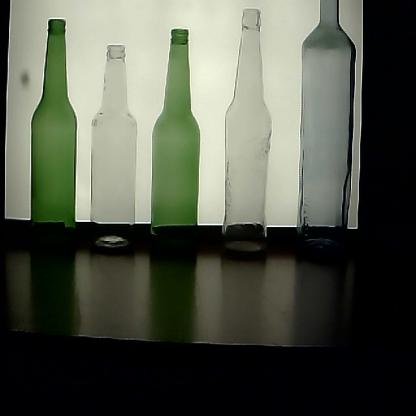Can: (294, 2, 358, 270), (216, 7, 273, 266), (145, 28, 204, 264), (26, 16, 82, 264), (86, 41, 140, 262)
